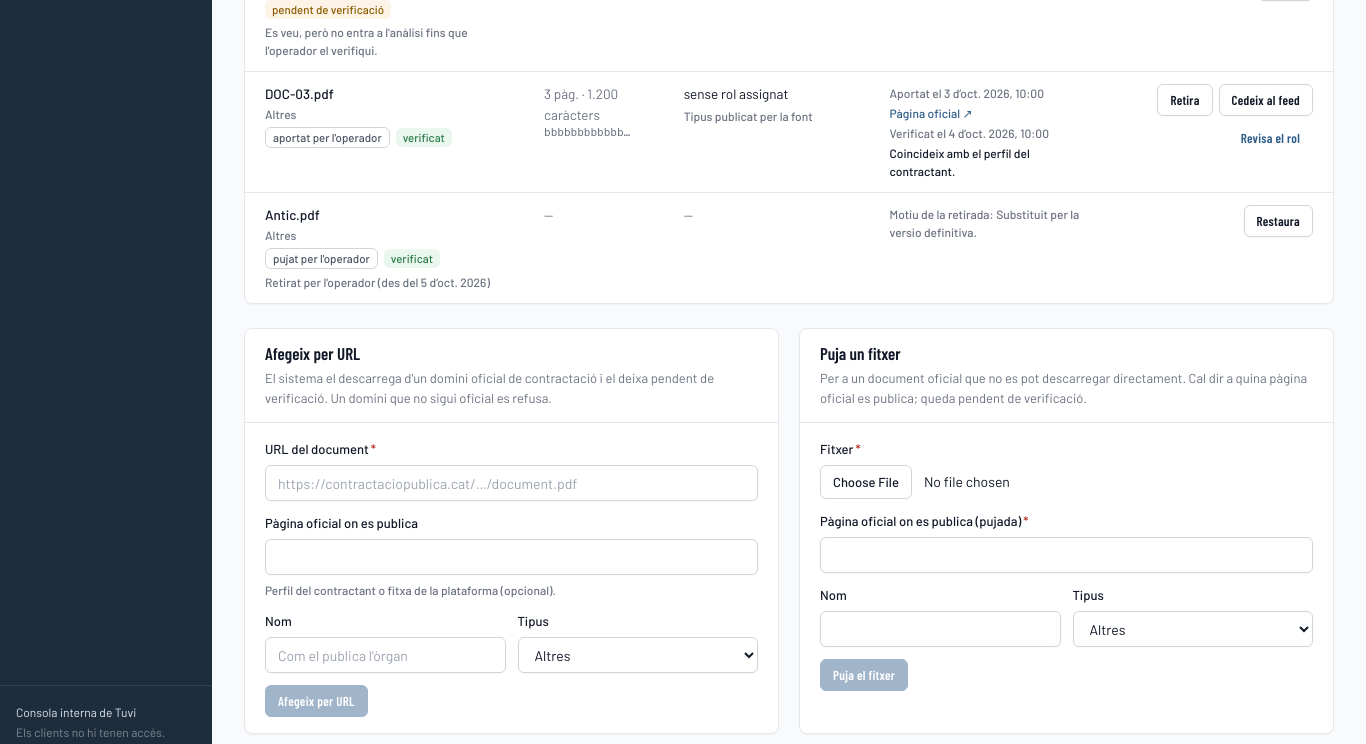
Scenario: Administració Tuvi · documents públics d'una licitació › afegir per URL: un host no oficial mostra l'error del servidor tal qual
(page scrolled)
In the field labelled "URL del document*": point(512, 483) [265,465,758,501], type "https://evil.example/plec.pdf"
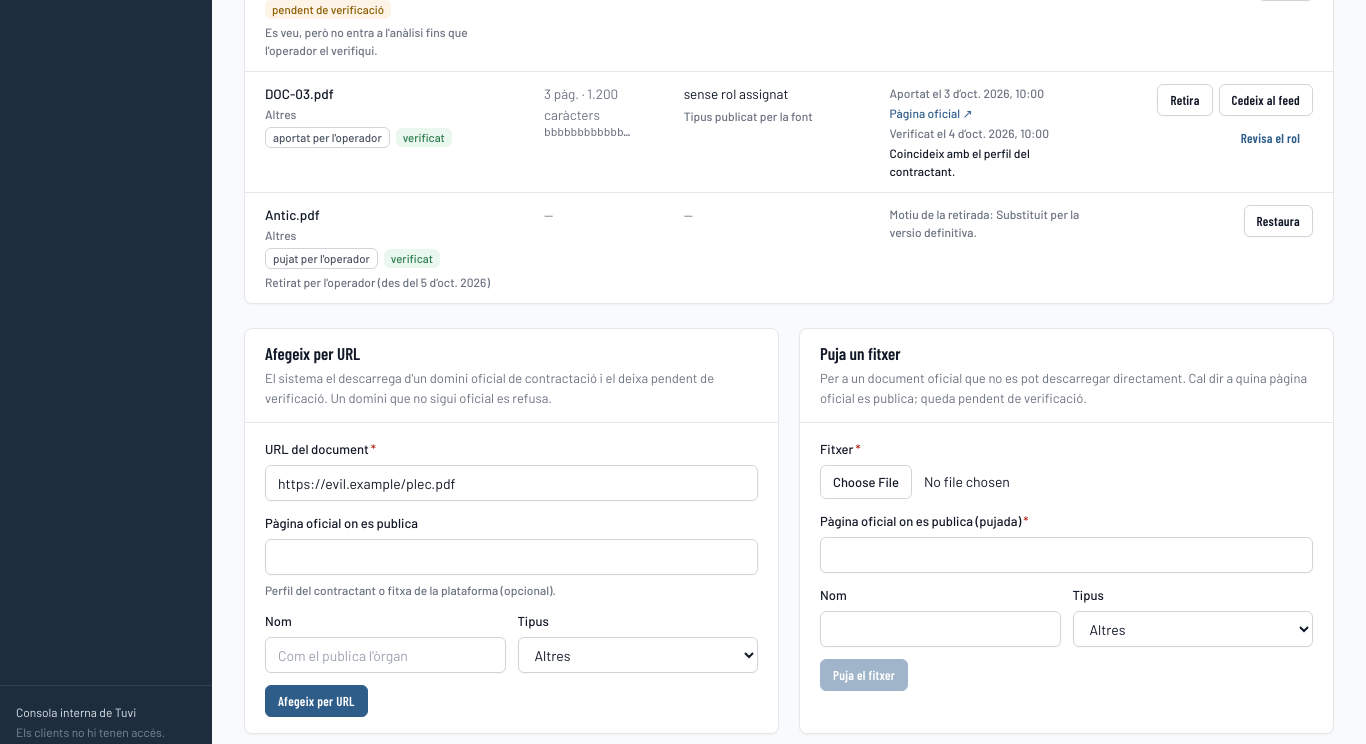
Click the button "Afegeix per URL": point(316, 701) [265,685,368,717]
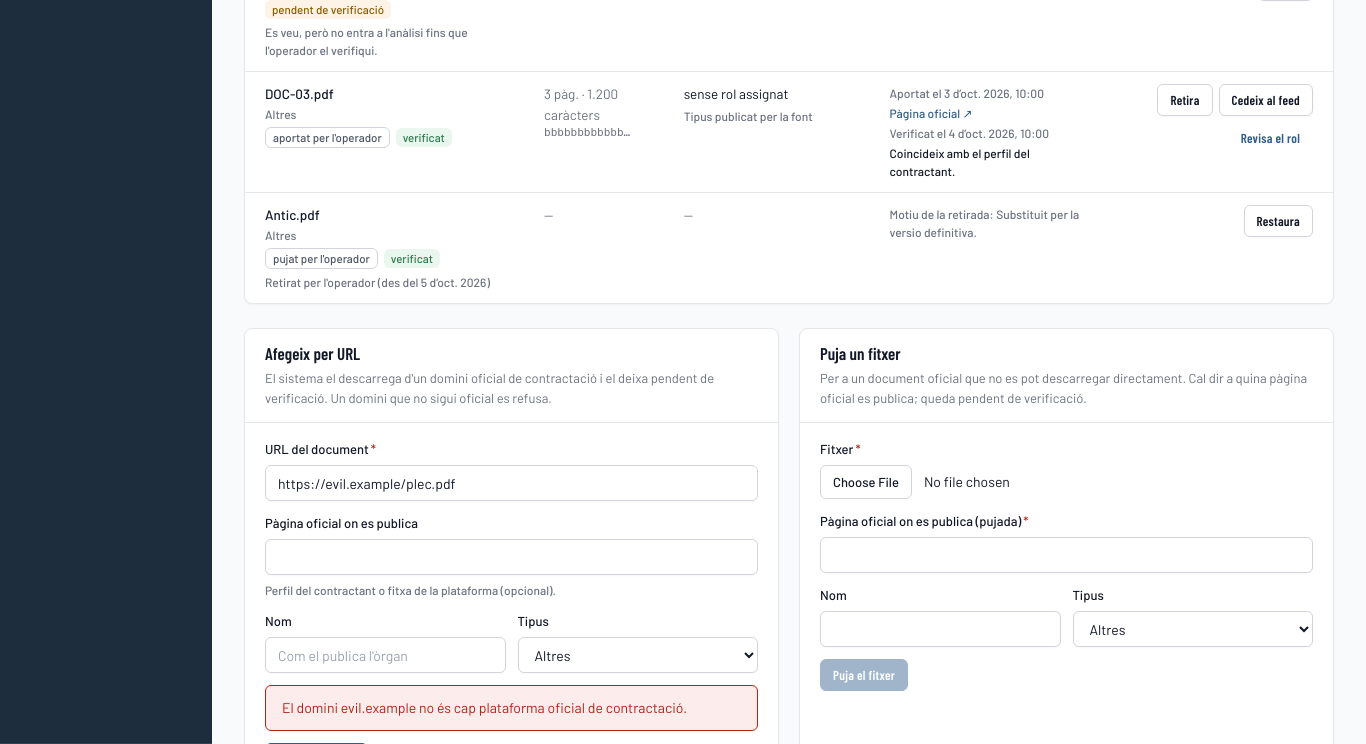
Result: the text "El domini evil.example no és cap plataforma oficial de contractació." is shown at [282,698,687,718]
